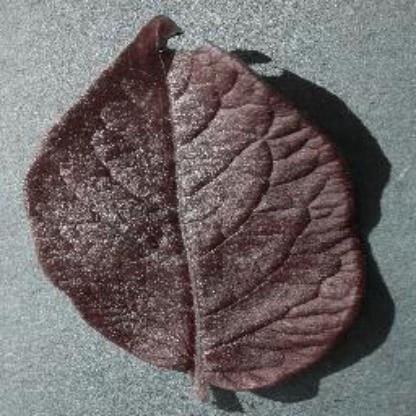Healthy-plant: (22, 18, 372, 406)
